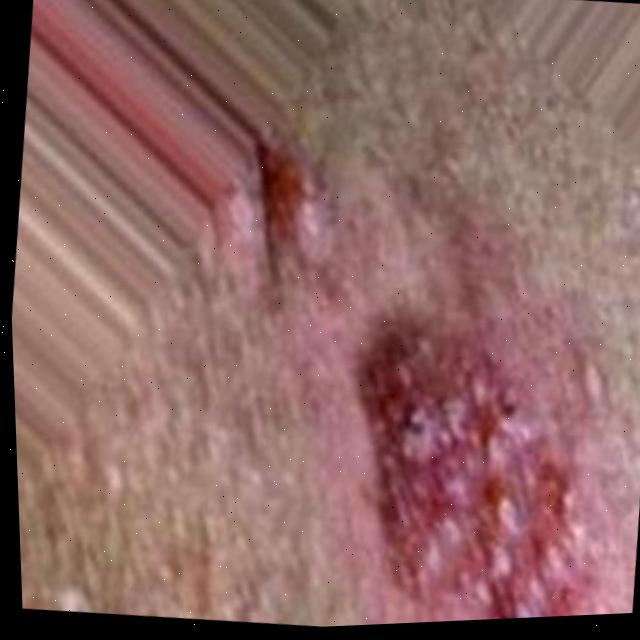Shingles: (335, 313, 635, 626)
